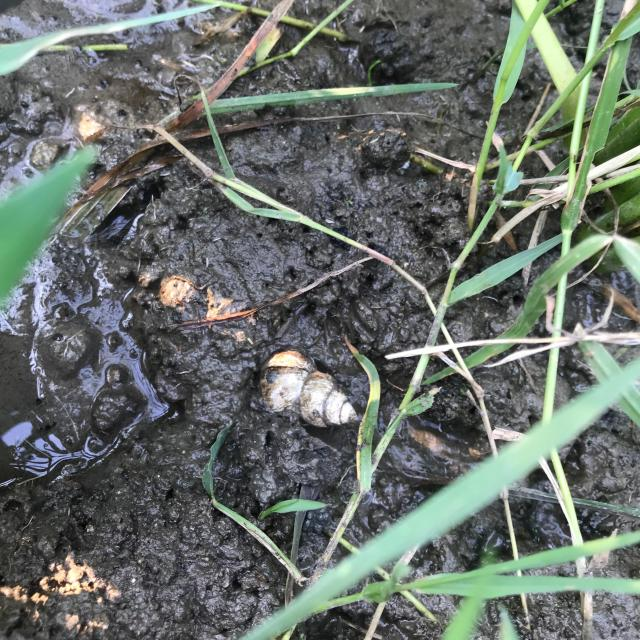rice bug -hama padi-: (257, 347, 360, 430)
